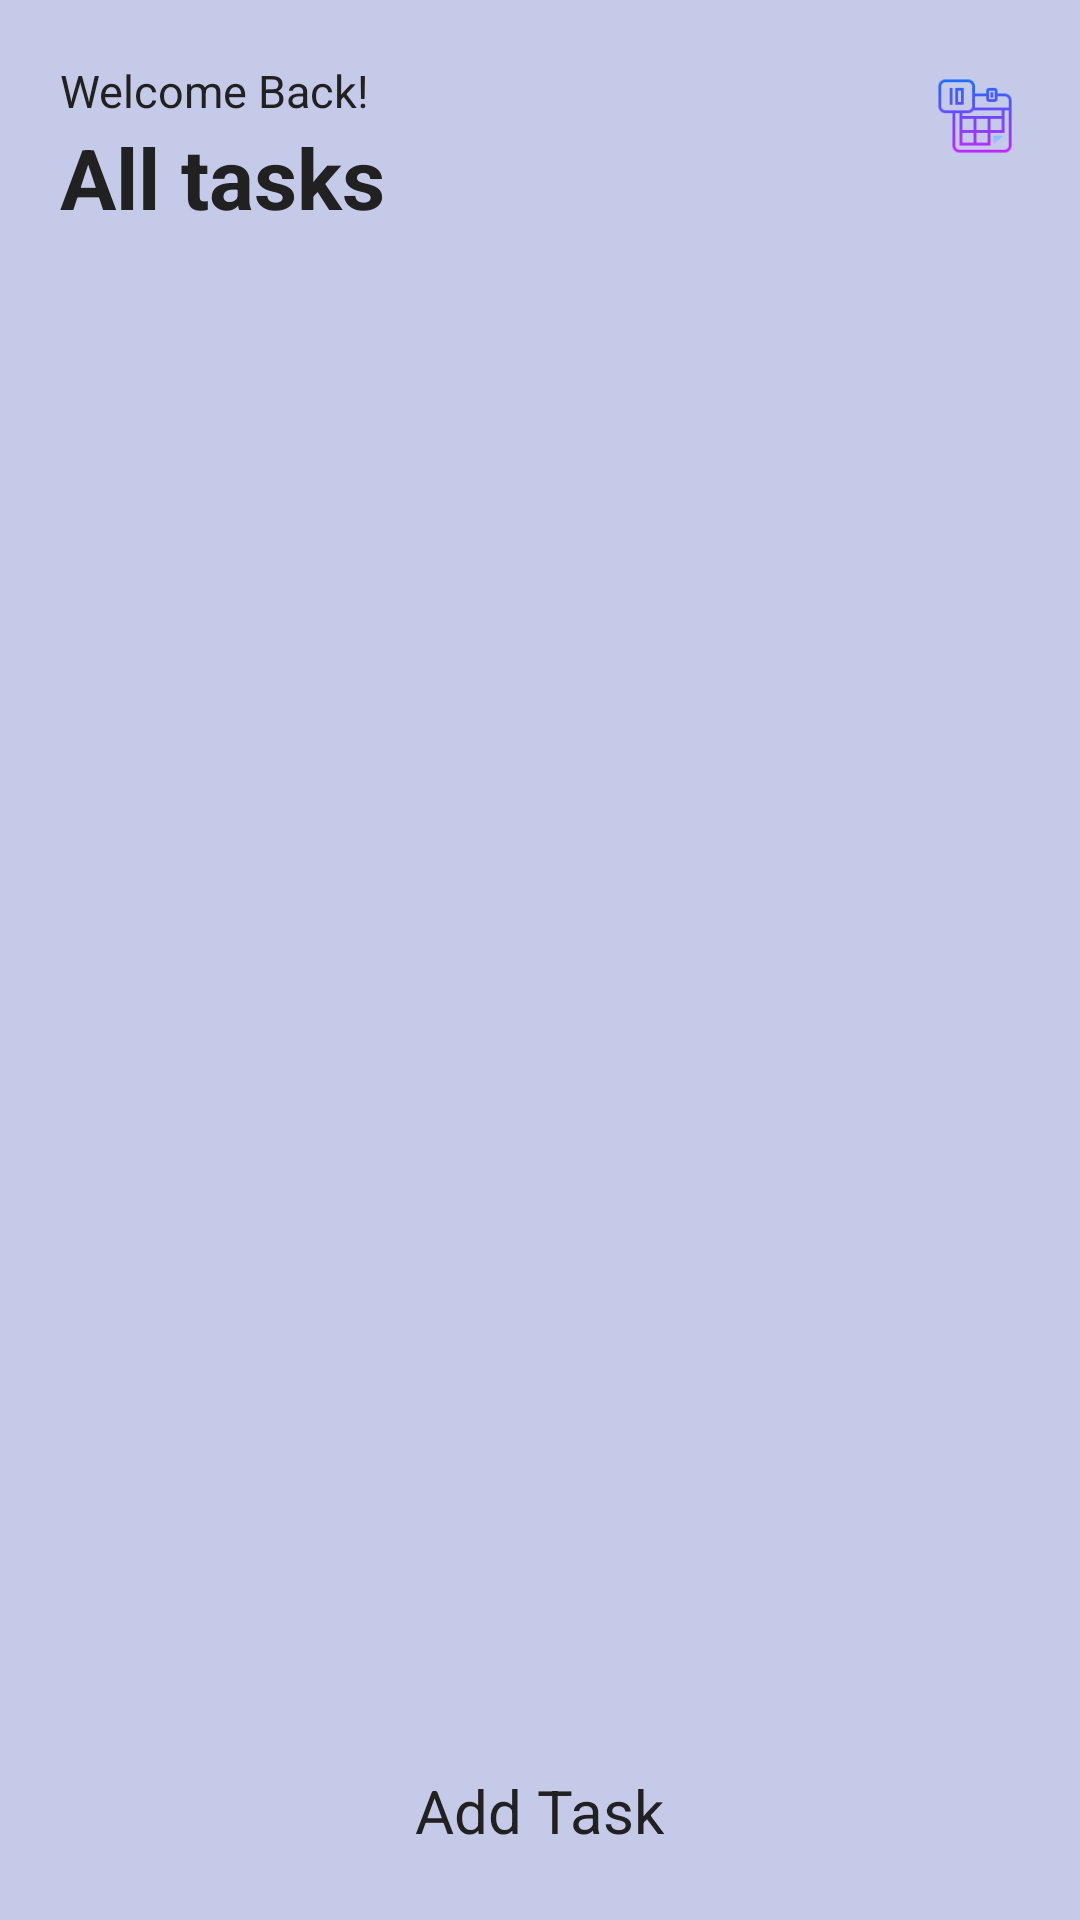

Icons on this 1080x1920 Android screen, each with its box as (x1=x1, y1=y1, x2=x2, y2=y2):
calendar: (x1=938, y1=79, x2=1012, y2=153)
